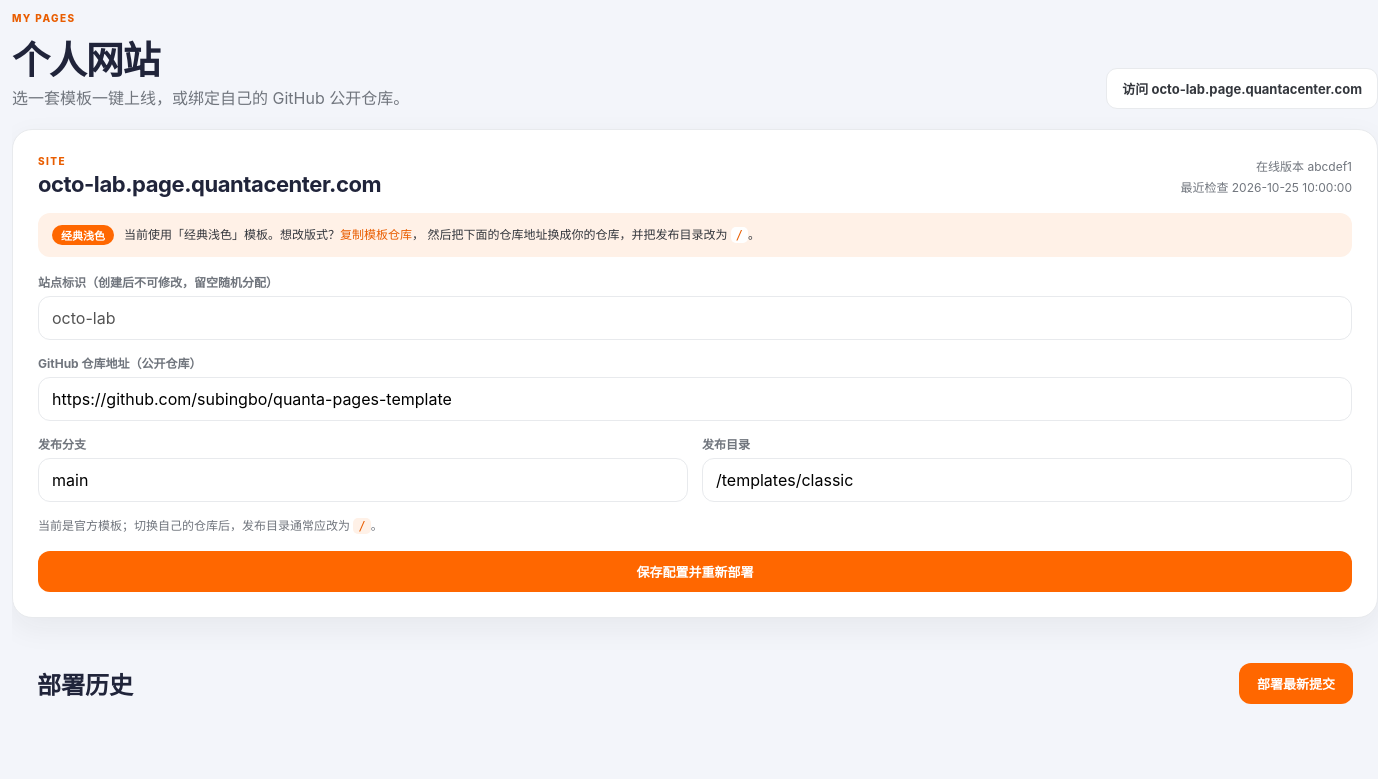
Test: member pages console › resets the template publish dir when switching to an own repository
Replace the text in the field with test id "pages-repo-url" with "https://github.com/octo/my-site" at (695, 399), box [38, 377, 1352, 421]
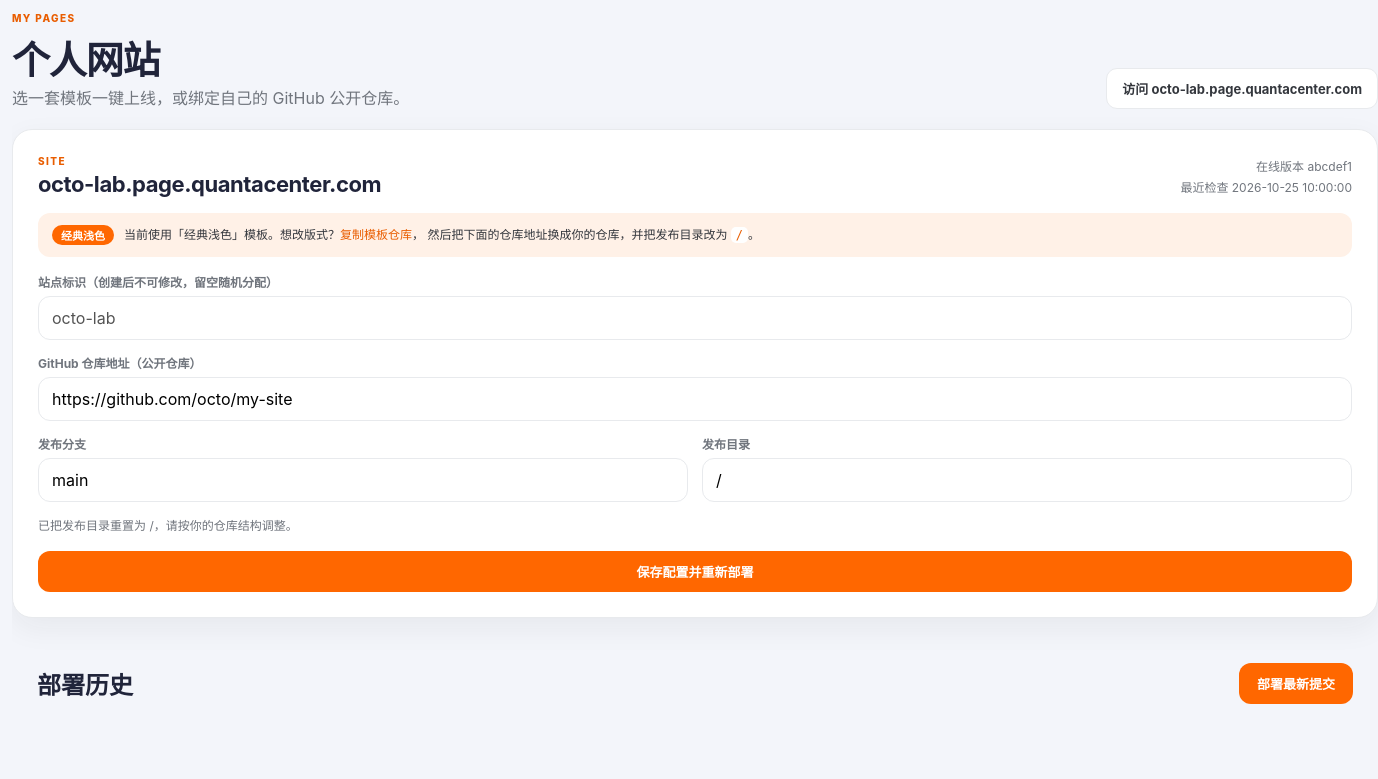
Check: the field with test id "pages-publish-dir" holds "/", box [702, 458, 1352, 502]
Check: the text with test id "pages-publish-dir-hint" shows "已把发布目录重置", box [38, 518, 298, 533]
